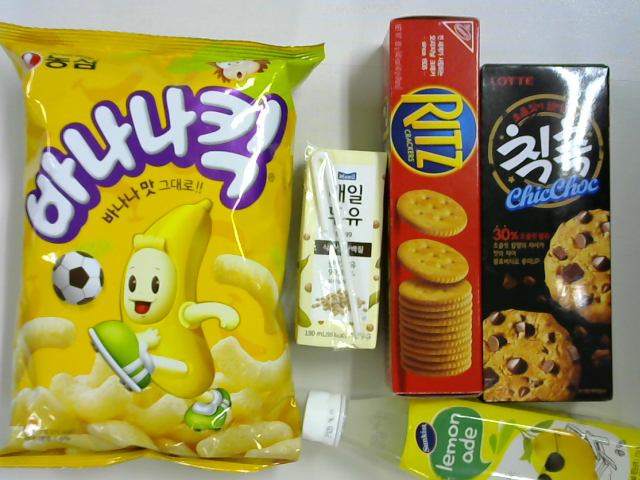99.89_Soymilk: (291, 142, 389, 352)
Banana_Kick: (1, 23, 324, 468)
Chicchok_Original_2400: (483, 64, 611, 405)
Ritz_Cracker: (383, 14, 484, 399)
Sunkist_Lemonaid_Pet: (302, 390, 640, 478)
